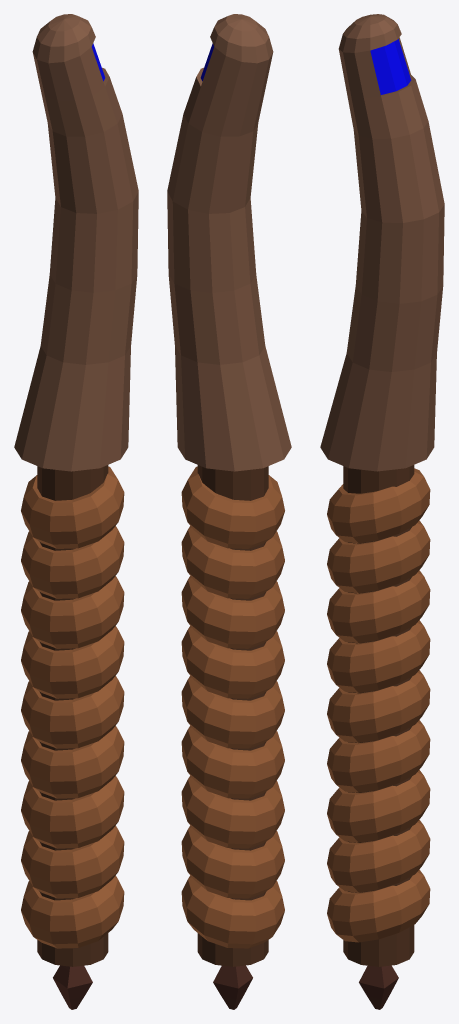
Rendered from Wand 445.glb.
3 views of the same model, side by side, from view 1: azimuth 30°, elevation 25°; view 2: azimuth 150°, elevation 25°; view 3: azimuth 330°, elevation 25° (orthographic).
Visible parts, largest first — view 1: GeneratedWand; view 2: GeneratedWand; view 3: GeneratedWand.
Boxes of the visible parts, left/top/right/bottom form: GeneratedWand: left=14, top=14, right=138, bottom=1009; GeneratedWand: left=167, top=14, right=291, bottom=1009; GeneratedWand: left=320, top=14, right=444, bottom=1009.
Bounding box in the file's own units: 0.0644 × 0.5475 × 0.0581.
